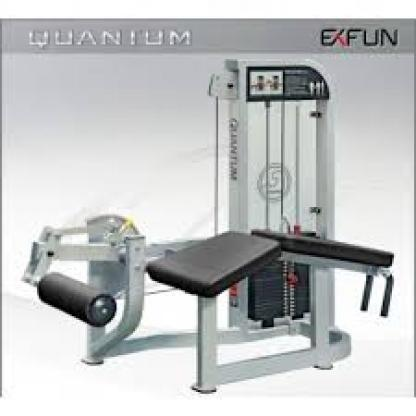reg curl machine: (11, 47, 410, 403)
